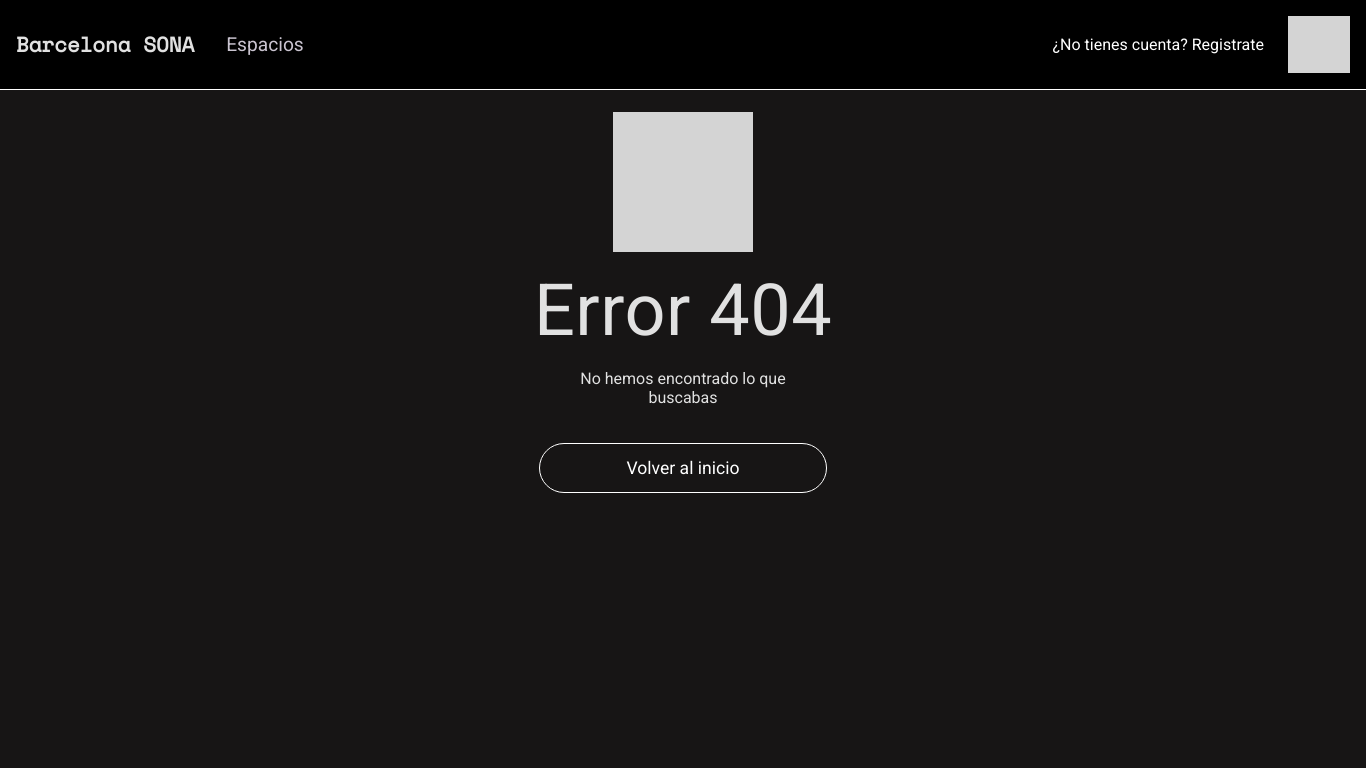
Test: Given an App component › When a Page 404 is rendered and the 'Consulta que espacios tienen su acústica registrada o añade el tuyo.' is clicked › Then it should show a page with the title 'Espacios'
Click the link "Volver al inicio". click: [683, 468]
box: [539,443,827,493]
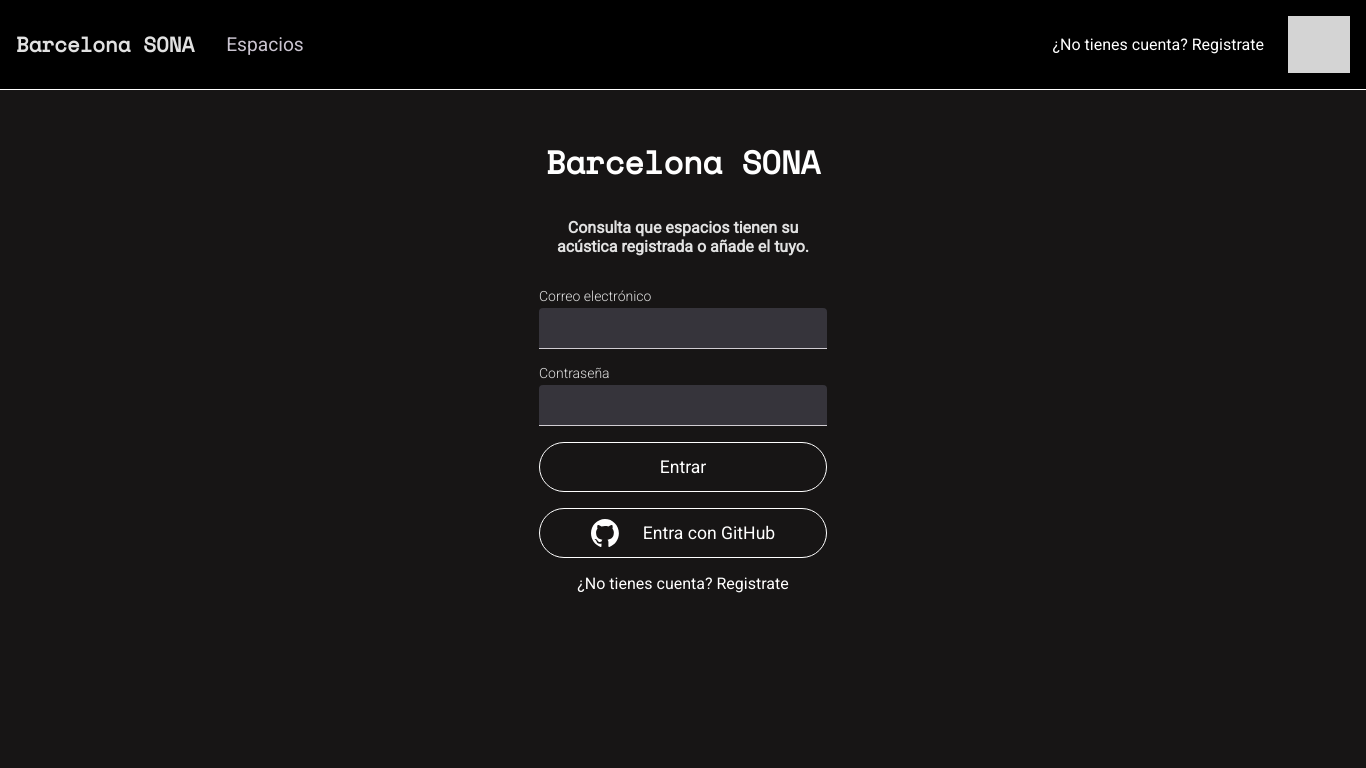
Now the heading "Consulta que espacios tienen su acústica registrada o añade el tuyo." is shown, box [539,218,827,256]
